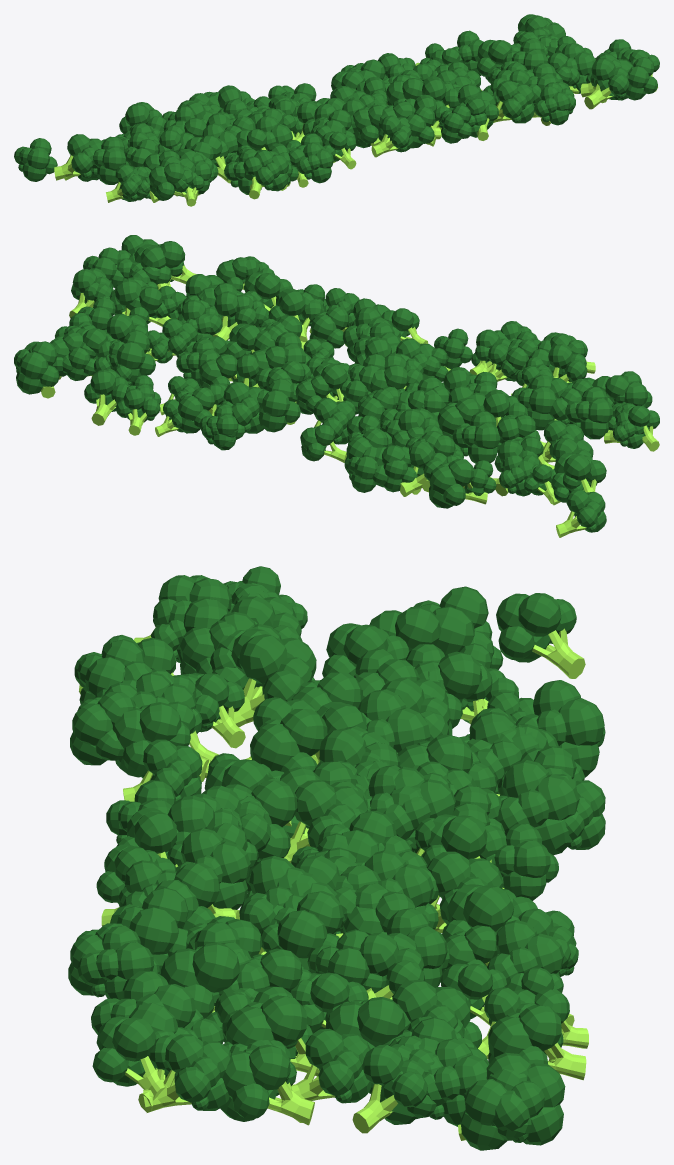
Rendered from brocoli.fbx.
3 renders of one model, top to bottom at view 1: azimuth 30°, elevation 25°; view 2: azimuth 150°, elevation 25°; view 3: azimuth 270°, elevation 25°, orthographic. The views are drawn at different scales.
Parts seen in each view (by area): view 1: Broccoli_Circle.126; view 2: Broccoli_Circle.126; view 3: Broccoli_Circle.126.
Boxes of the visible parts, <box> form: Broccoli_Circle.126: <box>14,14,659,206</box>; Broccoli_Circle.126: <box>14,235,659,537</box>; Broccoli_Circle.126: <box>68,566,605,1150</box>.
Bounding box in the file's own units: 1287 × 170 × 542.
